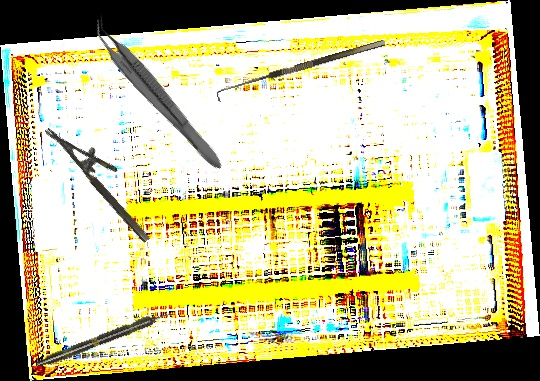Handpiece: (34, 307, 174, 371)
Hook Surgical: (214, 39, 389, 103)
Needle Holder: (44, 111, 166, 245)
Tissue Forceps: (82, 14, 234, 173)
